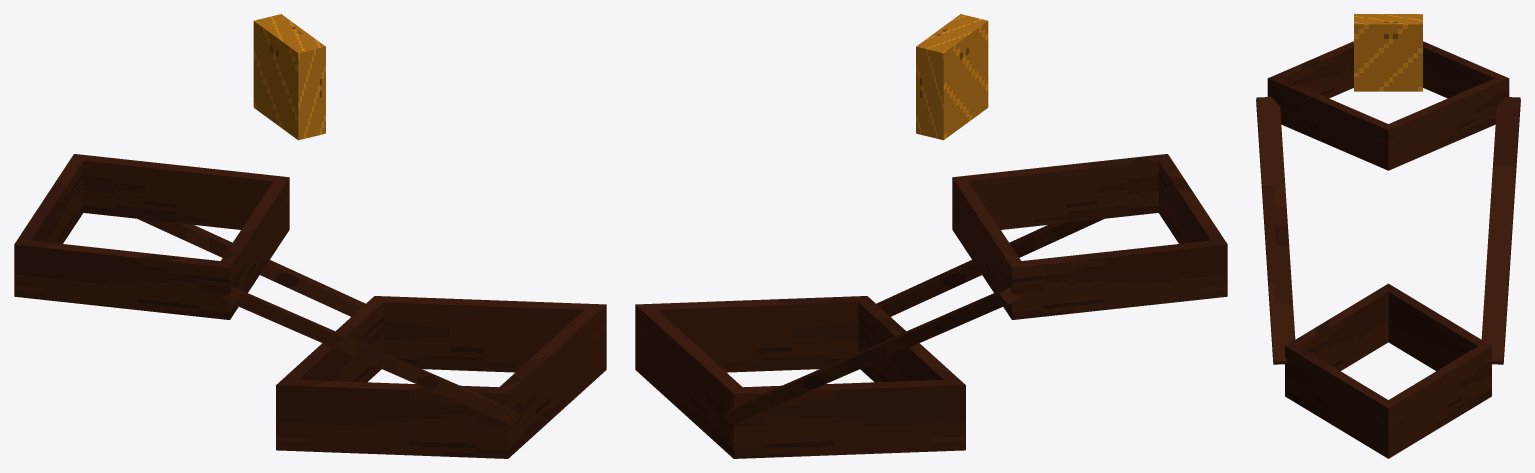
The model's file is brida.glb.
3 renders of one model, left to right at view 1: azimuth 30°, elevation 25°; view 2: azimuth 150°, elevation 25°; view 3: azimuth 270°, elevation 25°, orthographic. The views are drawn at different scales.
Parts seen in each view (by area): view 1: muserola, testera, carrilleras, adorno; view 2: muserola, testera, carrilleras, adorno; view 3: muserola, testera, carrilleras, adorno.
Part boxes in pixels (bbox=[...]): muserola: bbox=[276, 296, 606, 458]; testera: bbox=[14, 154, 289, 319]; carrilleras: bbox=[137, 218, 520, 425]; adorno: bbox=[253, 14, 325, 140]; muserola: bbox=[635, 296, 965, 458]; testera: bbox=[952, 154, 1227, 319]; carrilleras: bbox=[721, 218, 1104, 425]; adorno: bbox=[916, 14, 988, 140]; muserola: bbox=[1285, 283, 1491, 458]; testera: bbox=[1267, 41, 1509, 170]; carrilleras: bbox=[1256, 97, 1520, 364]; adorno: bbox=[1354, 14, 1422, 91].
Size of the model in its own units: 0.6 by 0.4 by 0.3.
1 material, 1 textured.
